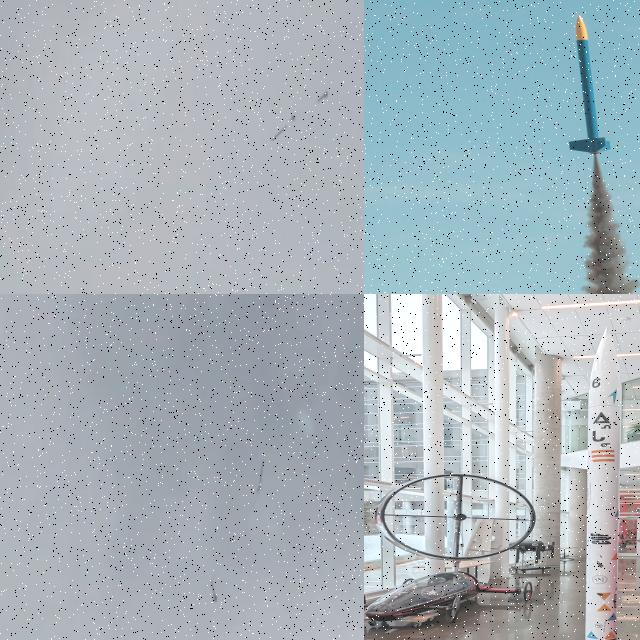Rocket: (585, 327, 622, 640), (567, 13, 613, 154), (211, 580, 217, 602), (318, 91, 328, 102)
